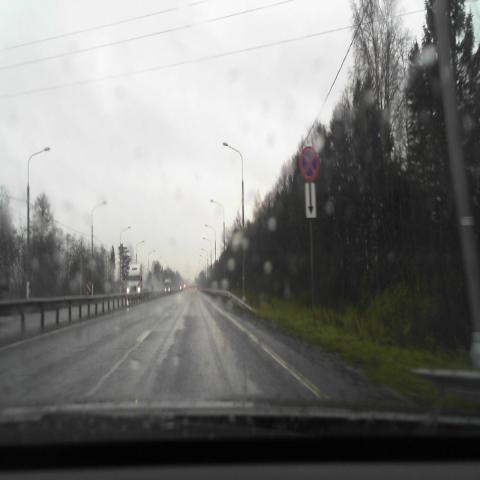8_2_3: (304, 182, 317, 218)
